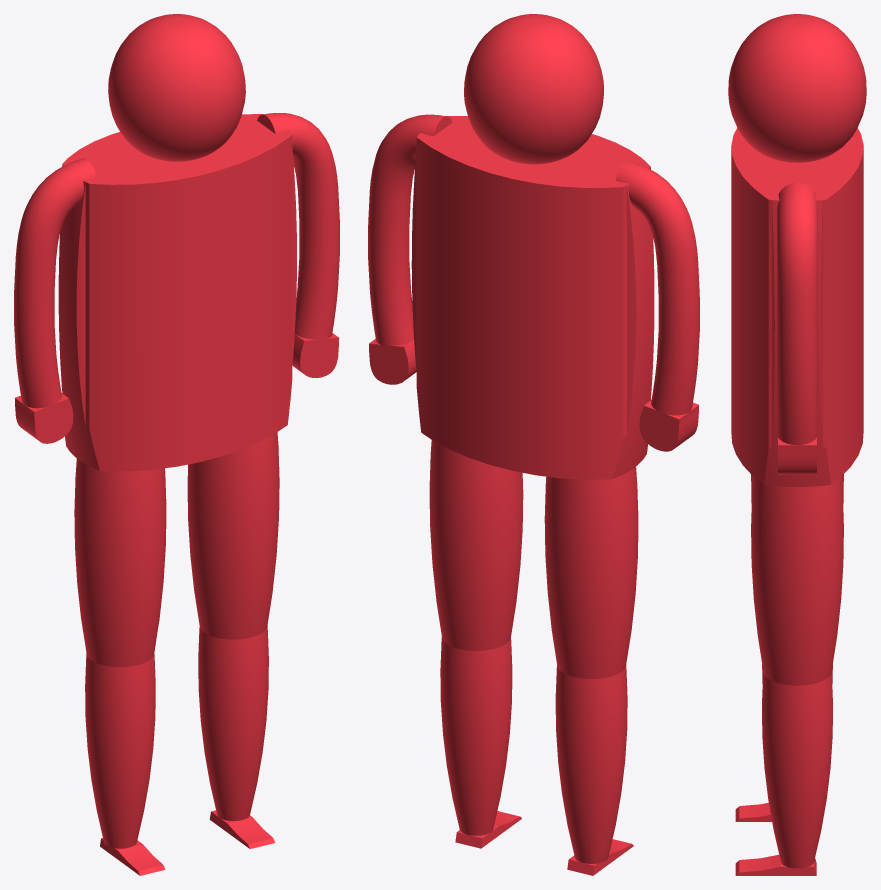
Rendered from human.gltf.
3 renders of one model, left to right at view 1: azimuth 30°, elevation 25°; view 2: azimuth 150°, elevation 25°; view 3: azimuth 270°, elevation 25°, orthographic.
Parts seen in each view (by area): view 1: Body_1.002; view 2: Body_1.002; view 3: Body_1.002.
Boxes of the visible parts, <box> form: Body_1.002: <box>14,14,339,875</box>; Body_1.002: <box>368,14,699,875</box>; Body_1.002: <box>728,14,866,875</box>.
Bounding box in the file's own units: 0.6679 × 1.63 × 0.2479.
